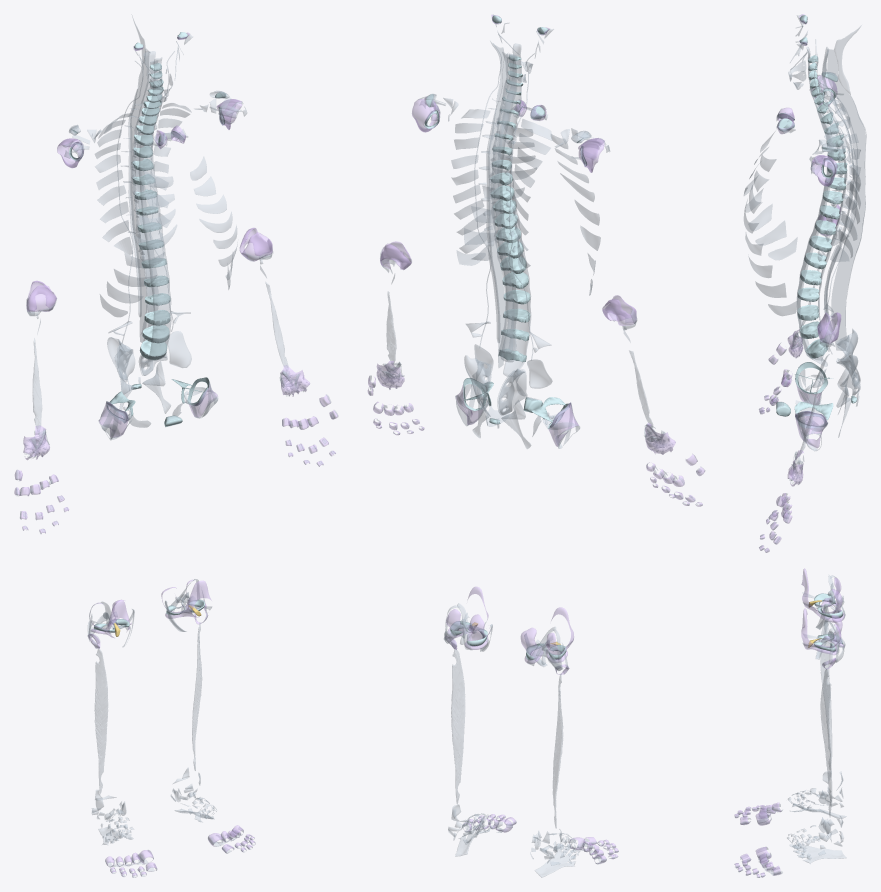
The model's file is joints.glb.
3 renders of one model, left to right at view 1: azimuth 30°, elevation 25°; view 2: azimuth 150°, elevation 25°; view 3: azimuth 270°, elevation 25°, orthographic. The views are drawn at different scales.
Parts seen in each view (by area): view 1: Anterior_longitudinal_ligament, External_intercostal_membraner, Internal_intercostal_membraner, Interspinous_ligaments, External_intercostal_membranel, Interosseous_membrane_of_legr, Internal_intercostal_membranel, Ligamenta_flava, Posterior_longitudinal_ligament, Articular_capsule_of_elbow_jointl, Supraspinous_ligament, Articular_capsule_of_elbow_jointr (+3 smaller); view 2: Posterior_longitudinal_ligament, Ligamenta_flava, Internal_intercostal_membranel, Interspinous_ligaments, External_intercostal_membranel, Anterior_longitudinal_ligament, Internal_intercostal_membraner, Interosseous_membrane_of_legl, External_intercostal_membraner, Articular_capsule_of_knee_jointr, Articular_capsule_of_knee_jointl, Posterior_sacro-iliac_ligamentr (+4 smaller); view 3: Interspinous_ligaments, External_intercostal_membranel, Anterior_longitudinal_ligament, Internal_intercostal_membranel, External_intercostal_membraner, Ligamenta_flava, Interosseous_membrane_of_legl, Articular_capsule_of_hip_jointl, Internal_intercostal_membraner, Articular_capsule_of_knee_jointr, Interosseous_membrane_of_legr, Articular_capsule_of_knee_jointl (+23 smaller).
Part boxes in pixels (box(x1,y1,x2,y2)): Anterior_longitudinal_ligament: box(139, 57, 171, 362); External_intercostal_membraner: box(100, 171, 176, 316); Internal_intercostal_membraner: box(95, 113, 132, 254); Interspinous_ligaments: box(130, 50, 149, 342); External_intercostal_membranel: box(190, 156, 237, 289); Interosseous_membrane_of_legr: box(94, 648, 107, 793); Internal_intercostal_membranel: box(153, 103, 191, 239); Ligamenta_flava: box(132, 51, 155, 334); Posterior_longitudinal_ligament: box(135, 60, 158, 340); Articular_capsule_of_elbow_jointl: box(239, 227, 272, 261); Supraspinous_ligament: box(128, 89, 141, 316); Articular_capsule_of_elbow_jointr: box(26, 280, 56, 311); Posterior_longitudinal_ligament: box(494, 53, 517, 362); Ligamenta_flava: box(491, 52, 515, 353); Internal_intercostal_membranel: box(451, 109, 490, 260); Interspinous_ligaments: box(488, 53, 507, 367); External_intercostal_membranel: box(456, 126, 536, 265); Anterior_longitudinal_ligament: box(499, 43, 531, 376); Internal_intercostal_membraner: box(512, 119, 551, 270); Interosseous_membrane_of_legl: box(451, 648, 464, 803); External_intercostal_membraner: box(551, 134, 600, 295); Articular_capsule_of_knee_jointr: box(520, 607, 573, 663); Articular_capsule_of_knee_jointl: box(446, 586, 489, 649); Posterior_sacro-iliac_ligamentr: box(497, 368, 527, 415); Interspinous_ligaments: box(827, 49, 865, 350); External_intercostal_membranel: box(744, 155, 797, 315); Anterior_longitudinal_ligament: box(797, 47, 833, 366); Internal_intercostal_membranel: box(824, 118, 860, 261); External_intercostal_membraner: box(744, 132, 797, 259); Ligamenta_flava: box(822, 47, 854, 340); Interosseous_membrane_of_legl: box(820, 668, 831, 816); Articular_capsule_of_hip_jointl: box(795, 411, 827, 447); Internal_intercostal_membraner: box(824, 95, 860, 245); Articular_capsule_of_knee_jointr: box(801, 568, 844, 622); Interosseous_membrane_of_legr: box(820, 622, 831, 768); Articular_capsule_of_knee_jointl: box(801, 608, 844, 655).
Size of the model in its own units: 66.15 by 158 by 23.08.
